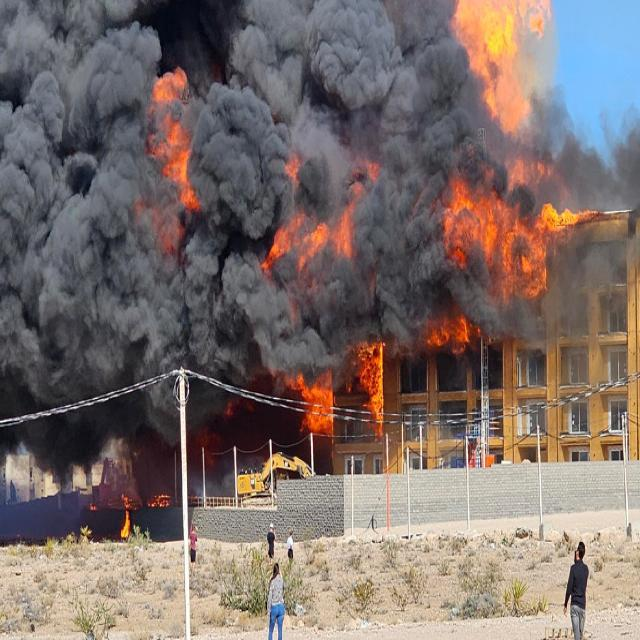Fire: (448, 165, 552, 296), (450, 0, 540, 136), (146, 58, 206, 242), (258, 197, 358, 275), (288, 358, 338, 461), (348, 335, 394, 438), (432, 304, 484, 358), (116, 490, 134, 548)
Smoke: (198, 4, 448, 340), (0, 0, 165, 467)
